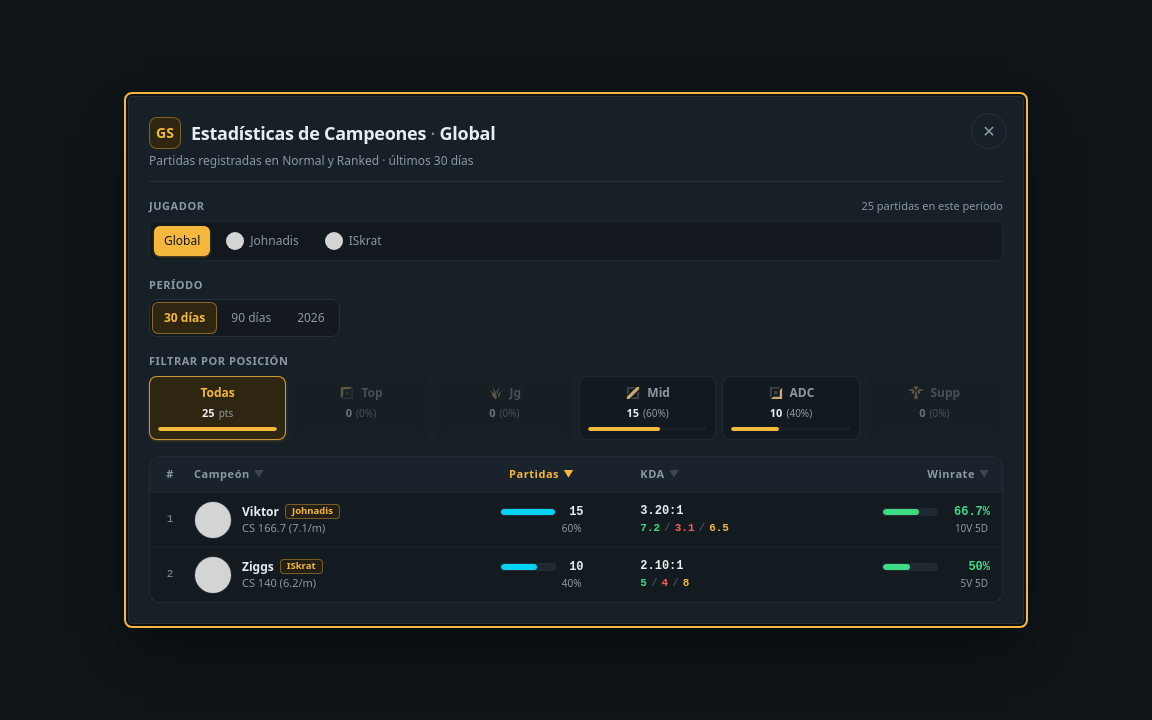
Test: ModalCampeones › cambia de pestaña a un amigo específico y muestra solo sus campeones
// Cambiar a Johnadis
Click the tab "Johnadis" at [262, 241], box [216,226,309,256]
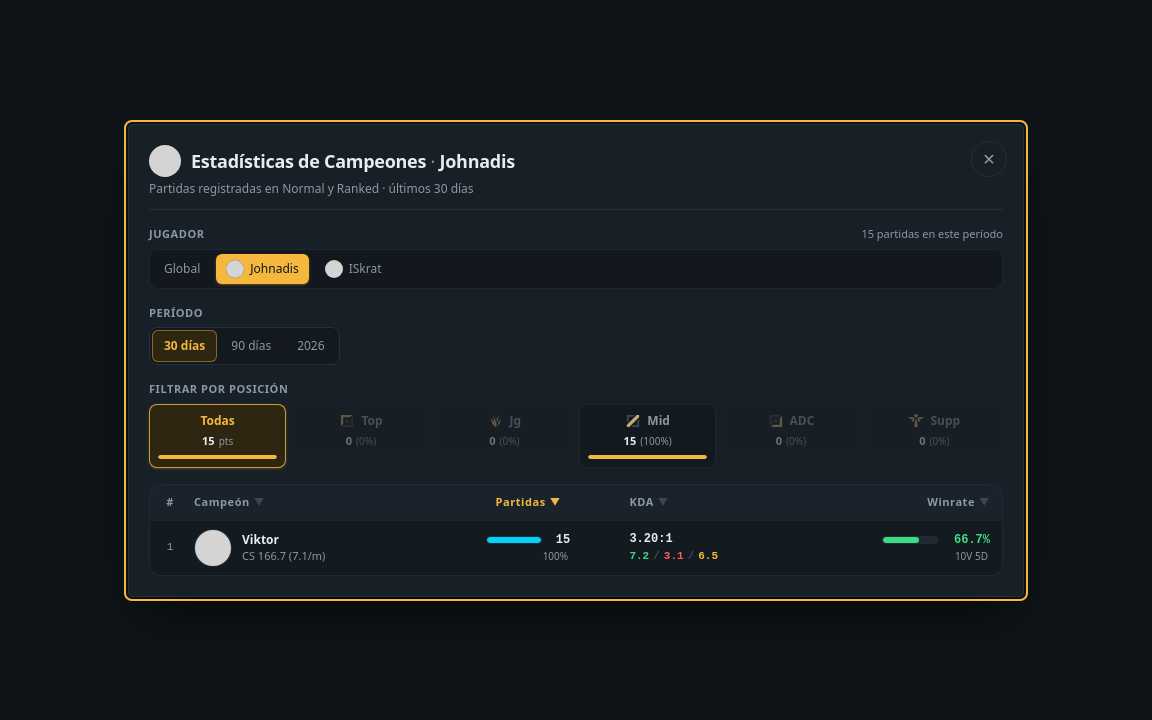
Expected: the text "Viktor" is shown, [242,532,279,546]
Expected: the text "Ziggs" is gone
// Cambiar a ISkrat
Click the tab "ISkrat" at [353, 268], box [315,253,392,283]
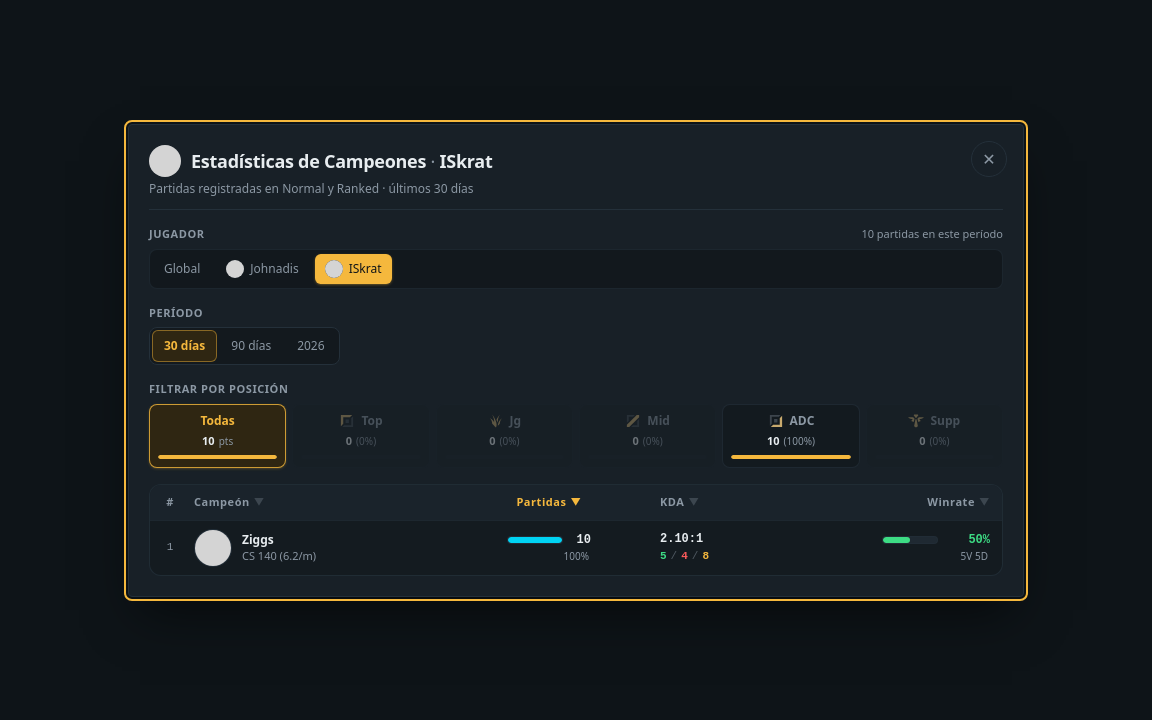
Expected: the text "Viktor" is gone
Expected: the text "Ziggs" is shown, [242,532,274,546]
